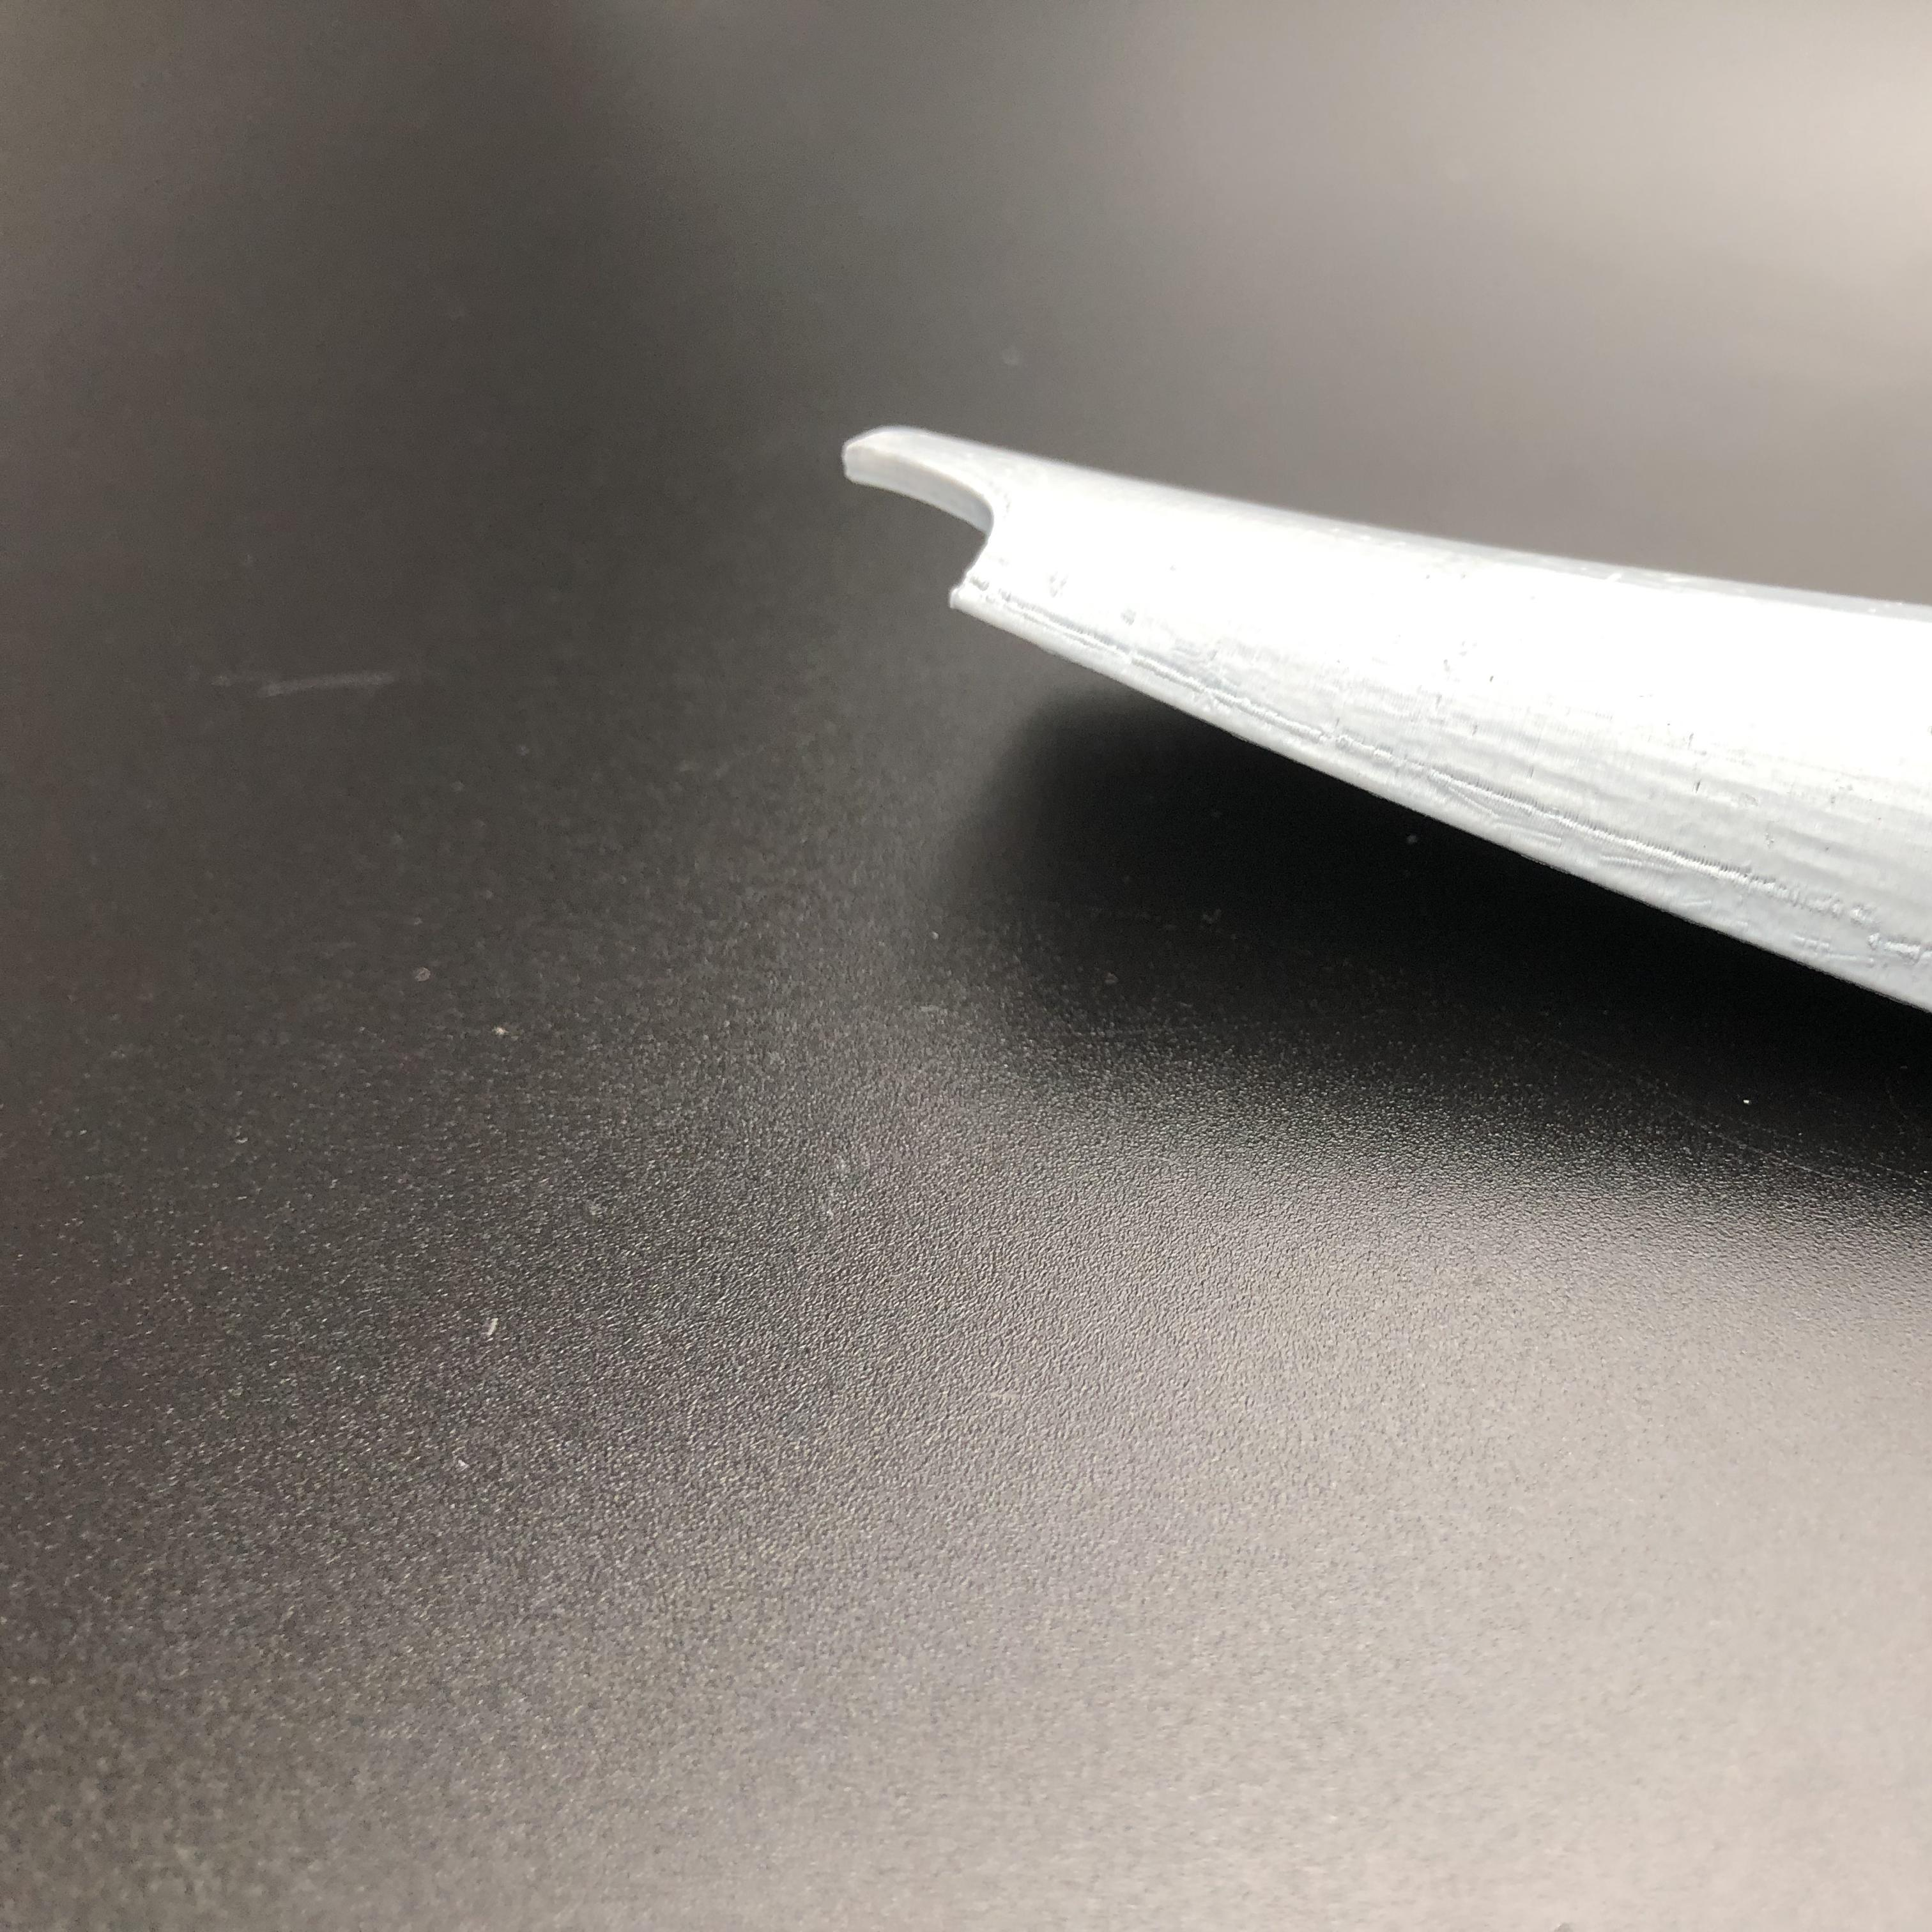fracture: (837, 446, 1044, 600)
